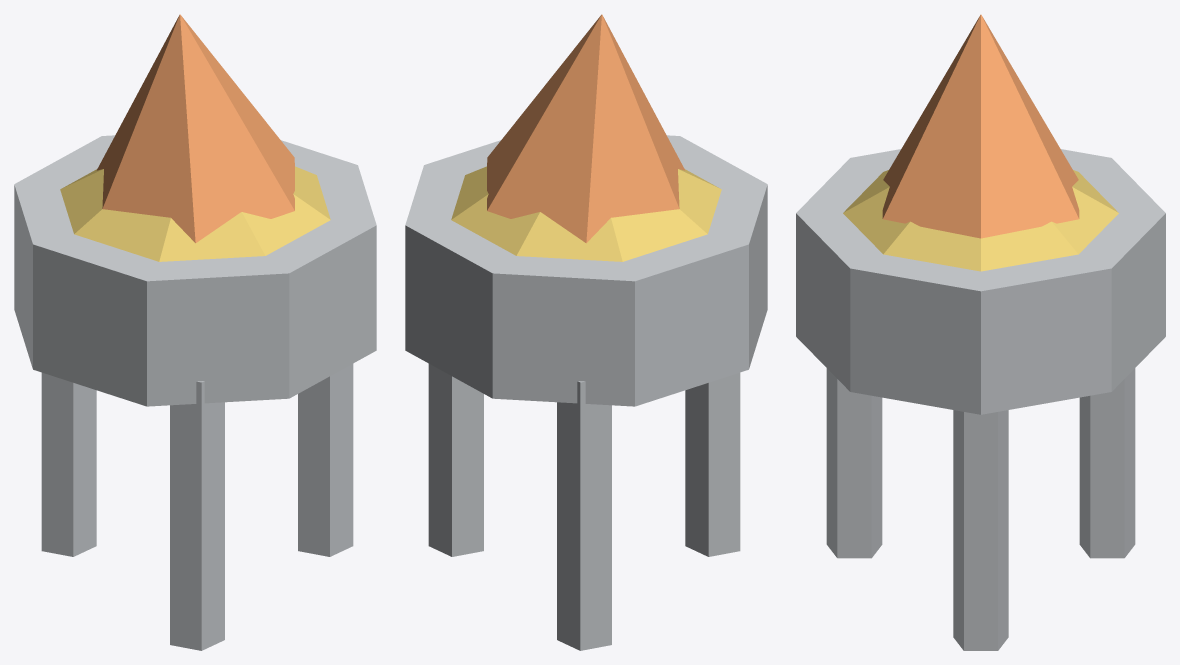
The model's file is animprop_brazier_05.glb.
3 renders of one model, left to right at view 1: azimuth 30°, elevation 25°; view 2: azimuth 150°, elevation 25°; view 3: azimuth 270°, elevation 25°, orthographic.
Visible parts, largest first — view 1: animprop; view 2: animprop; view 3: animprop.
Part boxes in pixels (<box>): animprop: <box>14,14,376,650</box>; animprop: <box>405,14,767,650</box>; animprop: <box>796,14,1165,650</box>.
Bounding box in the file's own units: 0.76 × 1.26 × 0.76.
